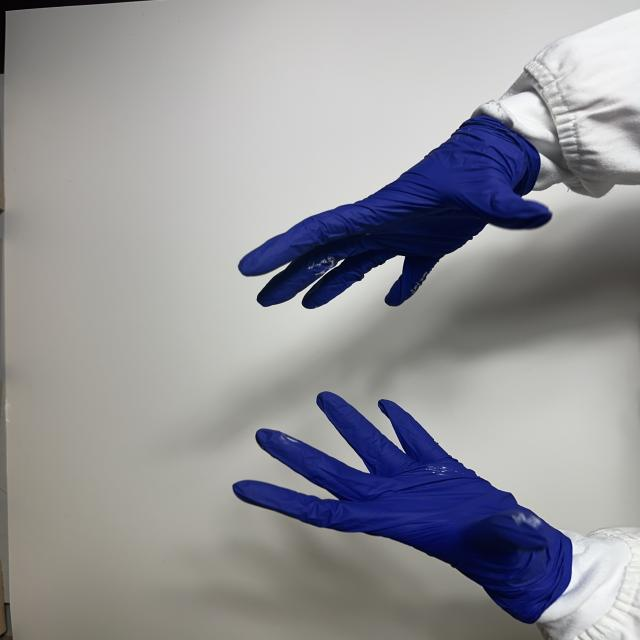gloves_contaminated: (233, 392, 572, 623), (239, 116, 551, 308)
